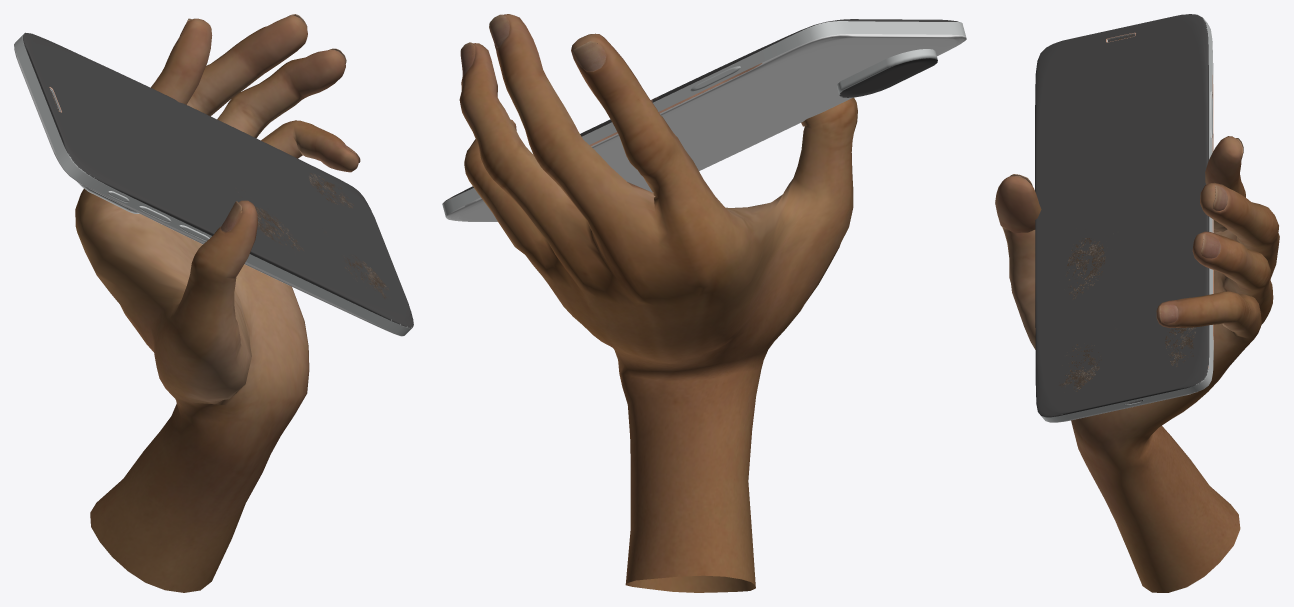
File: cellphone.glb
The picture shows the model from 3 angles, left to right: view 1: azimuth 30°, elevation 25°; view 2: azimuth 150°, elevation 25°; view 3: azimuth 270°, elevation 25°; orthographic projection. The views are drawn at different scales.
Visible parts, largest first — view 1: CC_Base_Body, mobilePhone; view 2: CC_Base_Body, mobilePhone; view 3: mobilePhone, CC_Base_Body.
Part boxes in pixels (x1,y1,x2,y2): CC_Base_Body: (75, 14, 360, 592); mobilePhone: (14, 32, 413, 336); CC_Base_Body: (459, 14, 857, 592); mobilePhone: (442, 19, 966, 221); mobilePhone: (1035, 14, 1213, 422); CC_Base_Body: (995, 136, 1279, 592).
Bounding box in the file's own units: 0.1697 × 0.2399 × 0.122.
Materials: 3 (3 with a texture image).
